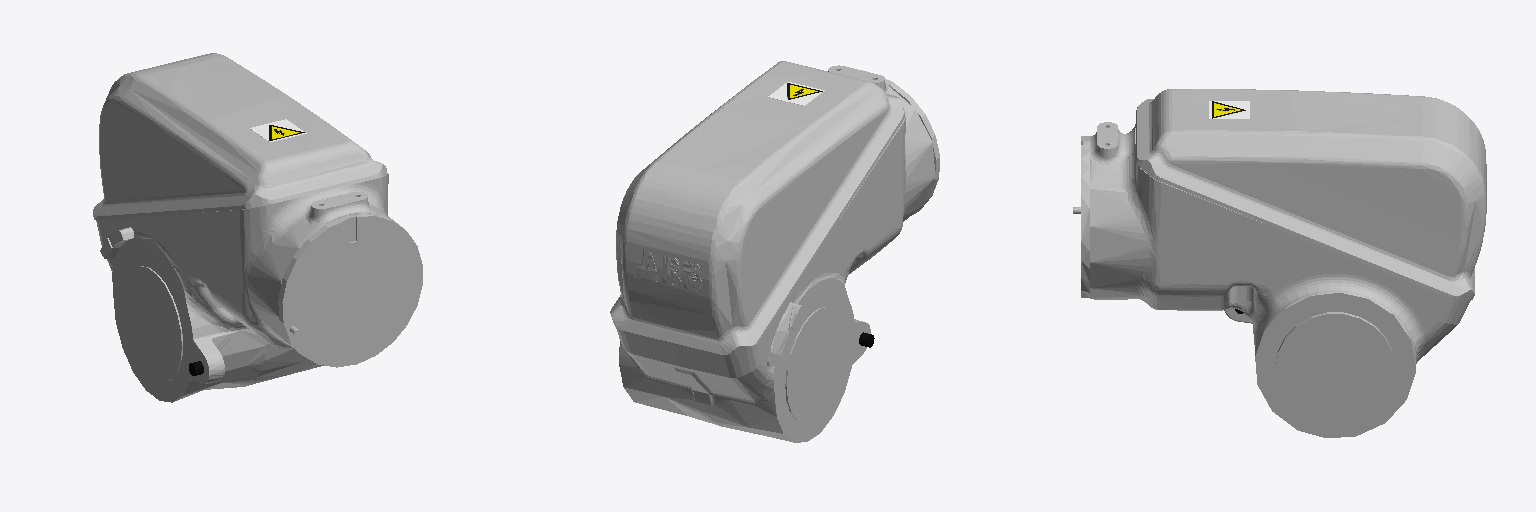
The picture shows the model from 3 angles: view 1: azimuth 30°, elevation 25°; view 2: azimuth 150°, elevation 25°; view 3: azimuth 270°, elevation 25°; orthographic projection.
Parts seen in each view (by area): view 1: IRB120_3_58_IRC5_Link3_rev002, Box512; view 2: IRB120_3_58_IRC5_Link3_rev002, Box512; view 3: IRB120_3_58_IRC5_Link3_rev002, Box512.
Boxes of the visible parts, x1=… form: IRB120_3_58_IRC5_Link3_rev002: x1=93, y1=53, x2=422, y2=402; Box512: x1=250, y1=119, x2=306, y2=142; IRB120_3_58_IRC5_Link3_rev002: x1=610, y1=61, x2=939, y2=442; Box512: x1=768, y1=82, x2=824, y2=105; IRB120_3_58_IRC5_Link3_rev002: x1=1073, y1=89, x2=1486, y2=437; Box512: x1=1209, y1=101, x2=1249, y2=118.
Size of the model in its own units: 116 by 188 by 244.
3 materials, 1 textured.